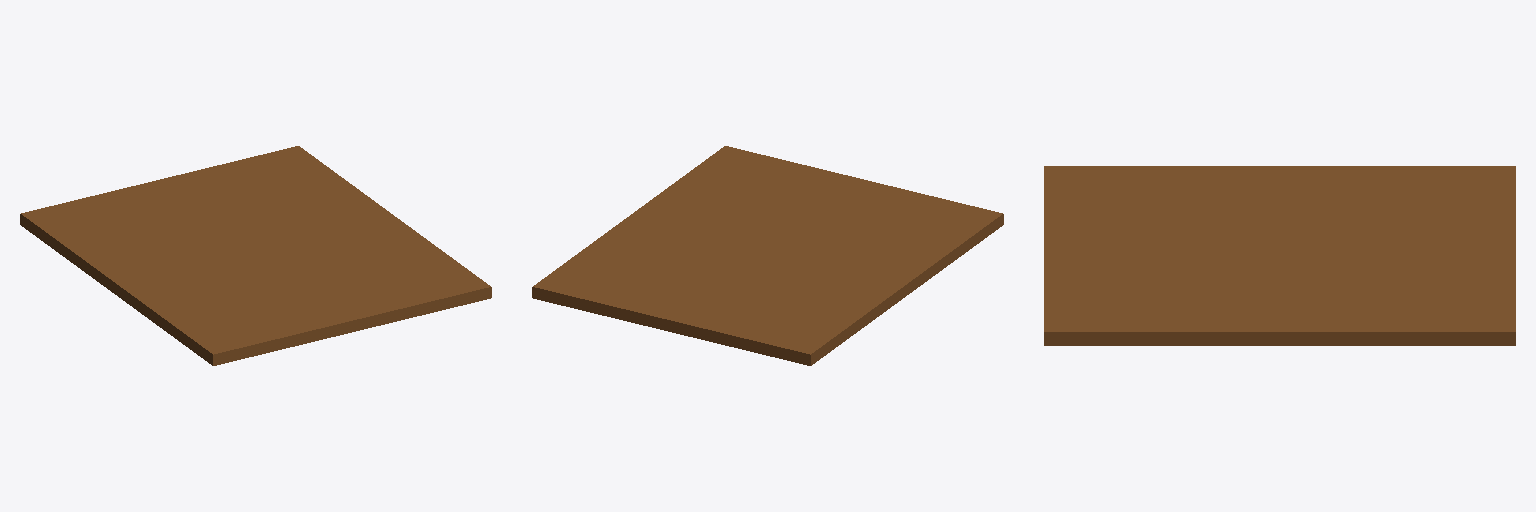
robot.urdf — board:
<?xml version="1.0"?>
<robot name="board"><link name="board"><inertial><origin xyz="0.0000 0.0000 0.0000"/><mass value="1.0"/><inertia ixx="1.000000" ixy="0" ixz="0" iyy="1.000000" iyz="0" izz="1.000000"/></inertial><visual name="board"><origin xyz="0.00000 0.44000 0.01000" rpy="0.00000 0.00000 0.00000"/><geometry><box size="0.50000 0.60000 0.02000"/></geometry><material name="m_board"><color rgba="0.550 0.380 0.220 1.000"/></material></visual><collision name="board"><origin xyz="0.00000 0.44000 0.01000" rpy="0.00000 0.00000 0.00000"/><geometry><box size="0.50000 0.60000 0.02000"/></geometry></collision></link></robot>

--- Facts derived from the render (not from the file) ---
The picture shows the robot from 3 angles, left to right: view 1: azimuth 30°, elevation 25°; view 2: azimuth 150°, elevation 25°; view 3: azimuth 270°, elevation 25°; orthographic projection.
Robot: board — 1 links, 0 joints (none); root link board; default pose: every joint at zero.
Links seen in each view (by area): view 1: board; view 2: board; view 3: board.
Boxes of the visible links, <box> form: board: <box>20,146,491,365</box>; board: <box>532,146,1003,365</box>; board: <box>1044,166,1515,345</box>.
Size in the robot's own frame: 0.5 by 0.6 by 0.02 metres.
Geometry: primitives only (box / cylinder / sphere), no mesh files.
